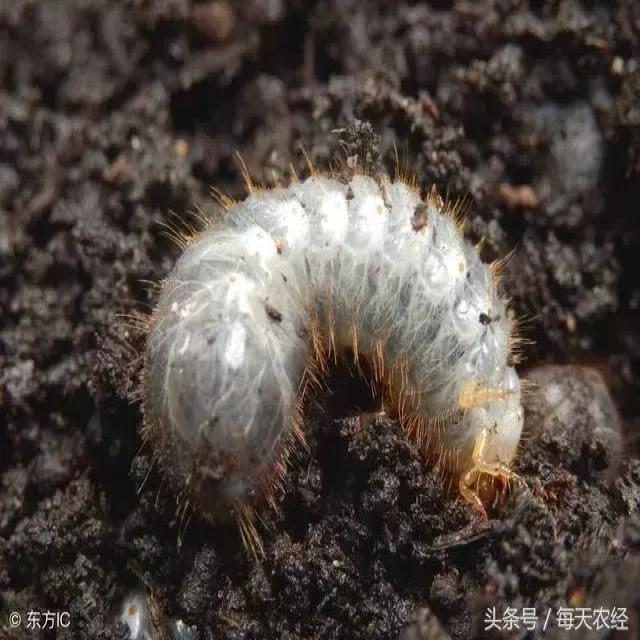Grub-Adult-: (118, 176, 547, 546)
